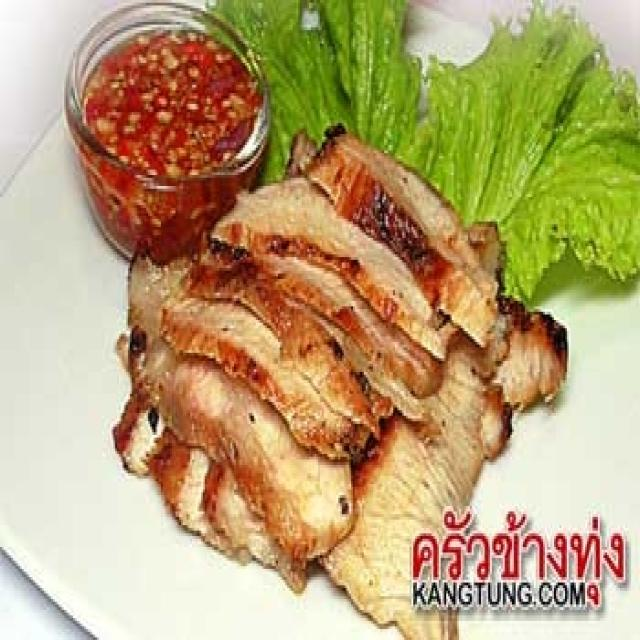猪肉菜式: (104, 136, 571, 624)
